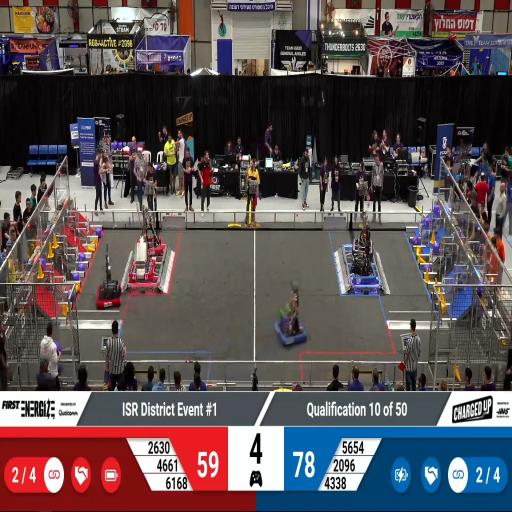robot: (274, 285, 307, 349), (135, 210, 163, 256), (96, 268, 123, 310), (127, 247, 155, 282), (351, 251, 376, 286), (350, 223, 374, 259)
